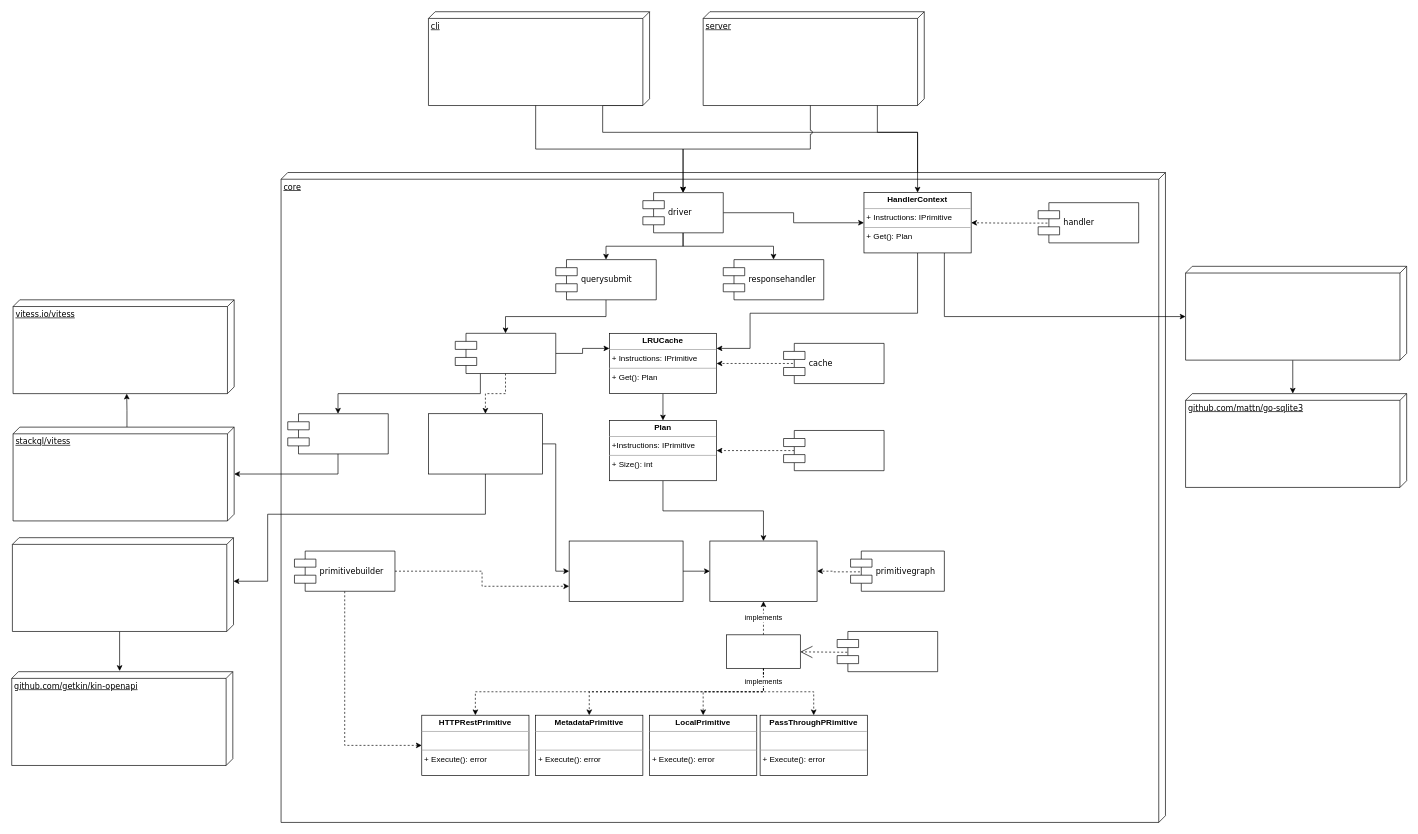
Some shapes in this 1418 by 834 pixel diagram are drawn without their labels. Each missing label, with the centre of its shape:
"parser" belongs at (337,433).
"plan" belongs at (833,450).
"planbuilder" belongs at (505,353).
"planGraphBuilder + insertExec(): error" belongs at (485,443).
"primitive" belongs at (887,651).
"PrimitiveBuilder + GetGraph(): PrimitiveGraph" belongs at (625,570).
"PrimitiveGraph + Execute(): error + Optimise(): error" belongs at (763,570).
"sqlengine" belongs at (1296,313).
"stackql/openapistackql" belongs at (122,584).
"«interface» IPrimitive" belongs at (763,651).
